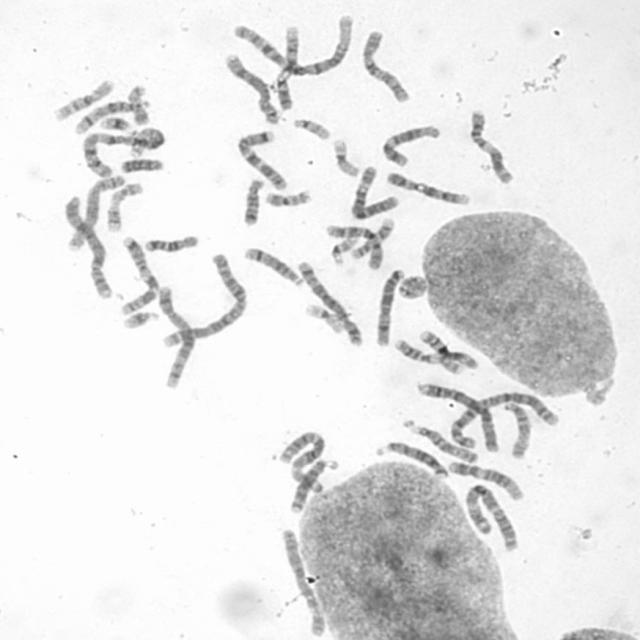A1: (233, 12, 353, 76), (80, 127, 166, 179)
A2: (161, 252, 247, 350), (451, 392, 561, 449)
A3: (454, 484, 524, 555), (280, 430, 325, 497)
B4: (414, 382, 502, 454), (62, 195, 114, 298)
B5: (294, 260, 364, 346), (155, 287, 196, 389)
C10: (360, 31, 413, 104), (324, 223, 383, 270)
C11: (460, 111, 518, 188), (390, 337, 481, 370)
C12: (445, 461, 525, 502), (380, 125, 442, 168)
C6: (278, 528, 328, 636), (348, 165, 400, 220)
C7: (236, 130, 291, 190), (118, 234, 158, 314)
C8: (65, 172, 126, 252), (224, 53, 281, 125)
C9: (386, 172, 470, 208), (276, 24, 300, 111)
D13: (373, 442, 449, 481), (288, 459, 340, 515)
D14: (74, 99, 151, 135), (240, 246, 304, 288)
D15: (400, 416, 480, 464), (498, 401, 534, 461)
E16: (54, 79, 114, 122), (418, 328, 464, 376)
E17: (105, 181, 144, 232), (351, 217, 395, 259)
E18: (241, 178, 266, 226), (144, 233, 198, 254)
F19: (302, 303, 345, 335), (328, 137, 360, 177)
F20: (128, 84, 152, 126), (265, 188, 313, 209)
G21: (99, 116, 138, 137), (120, 310, 160, 329)
G22: (330, 236, 360, 264), (294, 119, 332, 141)
X: (372, 264, 408, 348)
Y: (120, 158, 164, 174)
